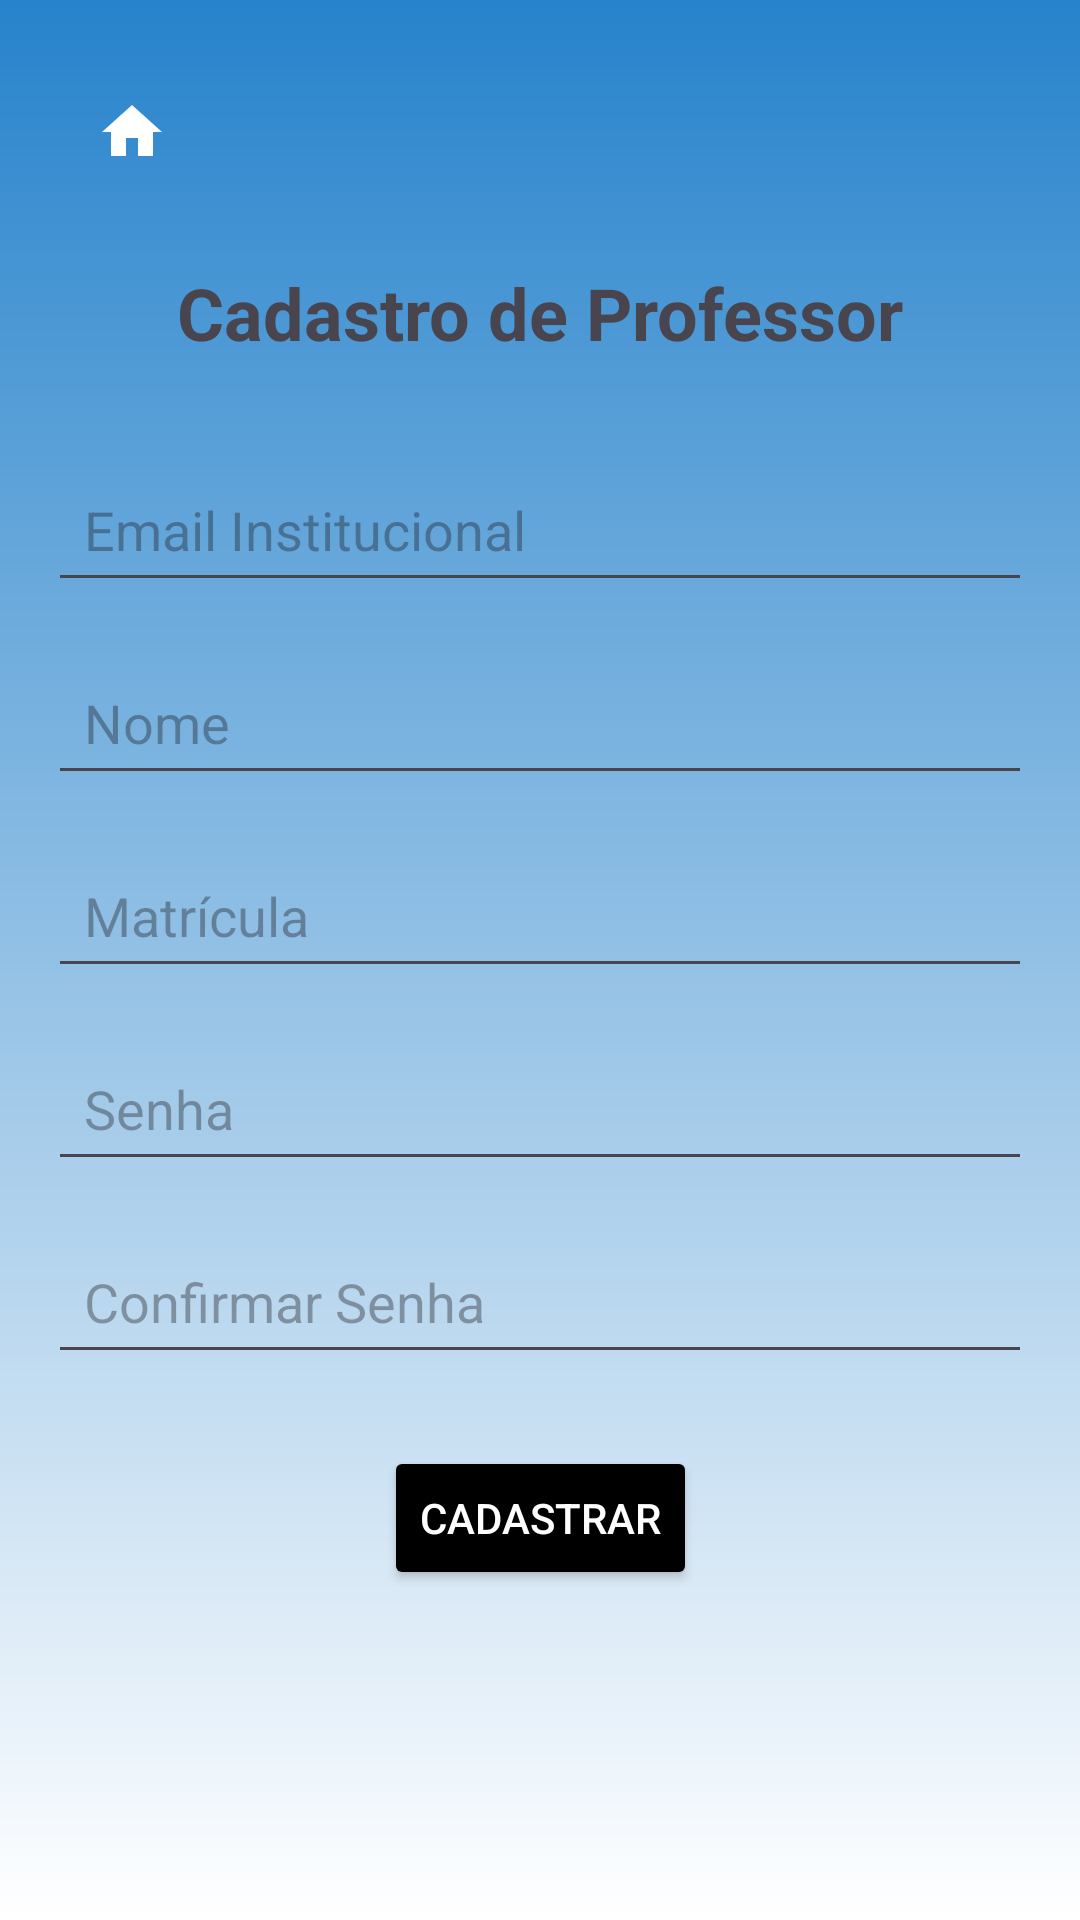

Icon bounding boxes for this 1080 x 1920 phone screenshot, format {"x1": x1, "y1": y1, "x2": x2, "y2": y2}:
Home: {"x1": 102, "y1": 105, "x2": 162, "y2": 156}
